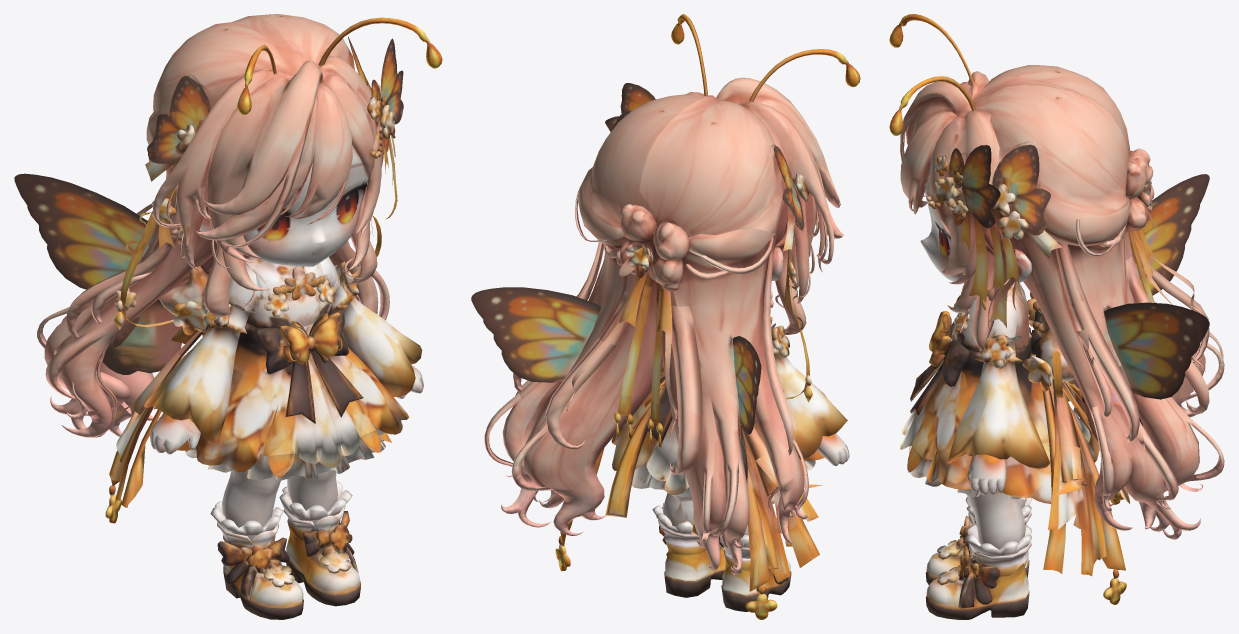
File: source.glb
3 views of the same model, side by side, from view 1: azimuth 30°, elevation 25°; view 2: azimuth 150°, elevation 25°; view 3: azimuth 270°, elevation 25° (orthographic). The views are drawn at different scales.
Visible parts, largest first — view 1: tripo_part_6, tripo_part_10, tripo_part_4, tripo_part_0, tripo_part_130, tripo_part_17, tripo_part_2, tripo_part_20, tripo_part_14, tripo_part_32, tripo_part_1, tripo_part_159 (+33 smaller); view 2: tripo_part_1, tripo_part_0, tripo_part_4, tripo_part_105, tripo_part_49, tripo_part_6, tripo_part_17, tripo_part_10, tripo_part_56, tripo_part_22, tripo_part_5, tripo_part_130 (+24 smaller); view 3: tripo_part_1, tripo_part_10, tripo_part_105, tripo_part_20, tripo_part_32, tripo_part_11, tripo_part_8, tripo_part_130, tripo_part_75, tripo_part_4, tripo_part_22, tripo_part_132 (+33 smaller).
Boxes of the visible parts, x1=… form: tripo_part_6: x1=194, y1=60, x2=327, y2=262; tripo_part_10: x1=177, y1=346, x2=409, y2=477; tripo_part_4: x1=148, y1=16, x2=298, y2=271; tripo_part_0: x1=37, y1=162, x2=217, y2=437; tripo_part_130: x1=14, y1=173, x2=188, y2=296; tripo_part_17: x1=144, y1=303, x2=255, y2=442; tripo_part_2: x1=199, y1=145, x2=368, y2=266; tripo_part_20: x1=332, y1=265, x2=422, y2=397; tripo_part_14: x1=285, y1=77, x2=354, y2=225; tripo_part_32: x1=319, y1=51, x2=381, y2=236; tripo_part_1: x1=243, y1=14, x2=378, y2=313; tripo_part_159: x1=100, y1=299, x2=182, y2=374; tripo_part_1: x1=501, y1=94, x2=721, y2=535; tripo_part_0: x1=656, y1=232, x2=808, y2=575; tripo_part_4: x1=639, y1=97, x2=834, y2=304; tripo_part_105: x1=471, y1=287, x2=600, y2=382; tripo_part_49: x1=741, y1=428, x2=790, y2=591; tripo_part_6: x1=715, y1=77, x2=843, y2=256; tripo_part_17: x1=771, y1=323, x2=847, y2=459; tripo_part_10: x1=611, y1=376, x2=824, y2=503; tripo_part_56: x1=688, y1=229, x2=775, y2=273; tripo_part_22: x1=664, y1=541, x2=725, y2=597; tripo_part_5: x1=652, y1=222, x2=689, y2=291; tripo_part_130: x1=732, y1=336, x2=761, y2=434; tripo_part_1: x1=970, y1=84, x2=1224, y2=539; tripo_part_10: x1=900, y1=355, x2=1096, y2=503; tripo_part_105: x1=1085, y1=302, x2=1209, y2=441; tripo_part_20: x1=947, y1=332, x2=1049, y2=469; tripo_part_32: x1=929, y1=110, x2=1001, y2=284; tripo_part_11: x1=1042, y1=380, x2=1125, y2=576; tripo_part_8: x1=1055, y1=242, x2=1139, y2=442; tripo_part_130: x1=1135, y1=174, x2=1209, y2=295; tripo_part_75: x1=1048, y1=379, x2=1087, y2=529; tripo_part_4: x1=968, y1=65, x2=1129, y2=157; tripo_part_22: x1=925, y1=563, x2=1029, y2=619; tripo_part_132: x1=992, y1=144, x2=1050, y2=235.
Size of the model in its own units: 0.5965 by 1 by 0.5535.
1 material, 1 textured.
